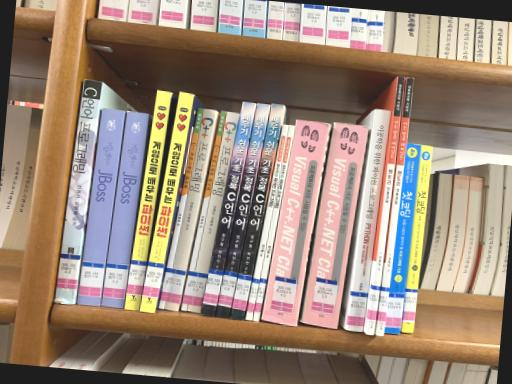book-spine: (261, 118, 330, 325), (300, 122, 368, 328), (215, 102, 271, 318), (139, 91, 193, 312), (201, 101, 256, 316), (230, 103, 283, 320), (54, 79, 102, 304), (186, 111, 239, 313), (124, 89, 172, 311), (165, 108, 217, 311), (345, 109, 391, 331), (375, 77, 414, 335), (367, 75, 405, 334), (76, 108, 125, 305), (180, 110, 226, 311), (158, 107, 203, 309), (101, 111, 147, 308), (244, 124, 287, 321), (252, 125, 294, 322), (385, 142, 420, 334), (401, 144, 432, 333)
